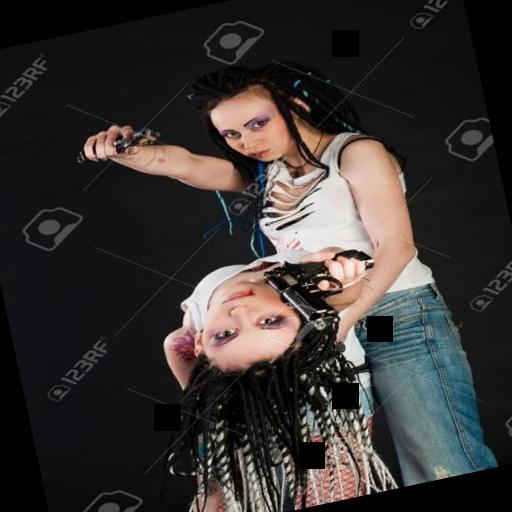Handgun: (260, 236, 380, 344), (81, 119, 171, 162)
